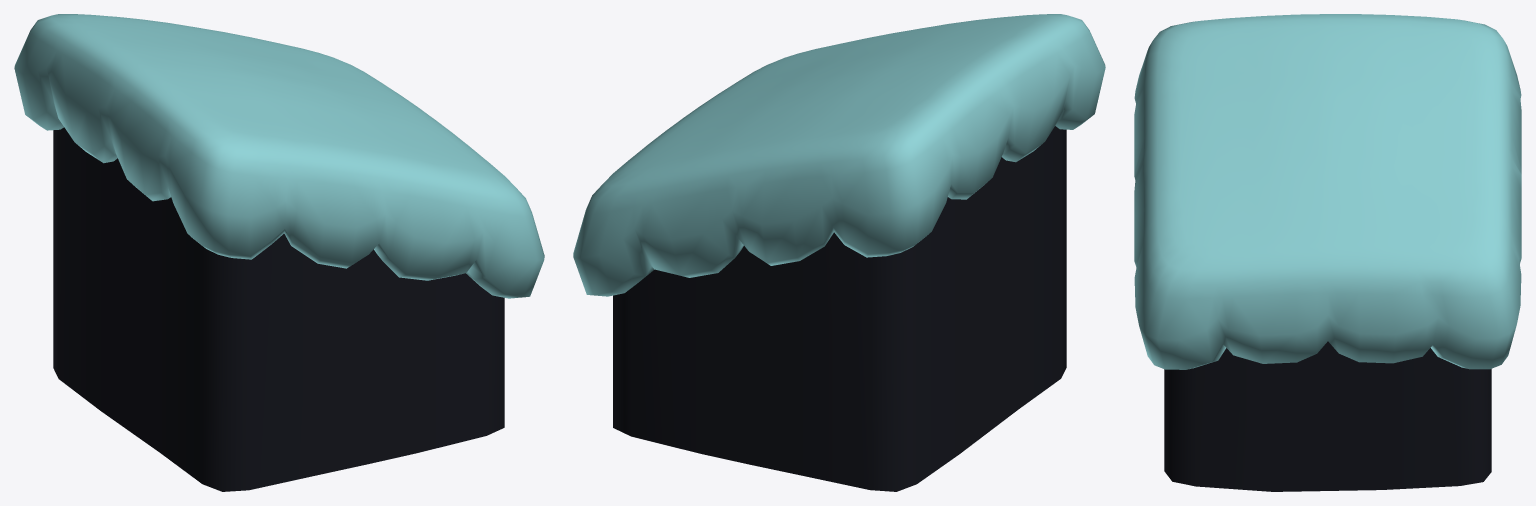
File: mur_rock_02.fbx
The picture shows the model from 3 angles, left to right: view 1: azimuth 30°, elevation 25°; view 2: azimuth 150°, elevation 25°; view 3: azimuth 270°, elevation 25°; orthographic projection. The views are drawn at different scales.
Visible parts, largest first — view 1: Box020, Box022; view 2: Box020, Box022; view 3: Box022, Box020.
Part boxes in pixels (left/top/right/bottom): Box020: left=53, top=127, right=504, bottom=491; Box022: left=14, top=14, right=544, bottom=298; Box020: left=613, top=126, right=1066, bottom=491; Box022: left=573, top=14, right=1105, bottom=296; Box022: left=1134, top=14, right=1521, bottom=369; Box020: left=1164, top=341, right=1491, bottom=491.
Bounding box in the file's own units: 641 × 652 × 665.
